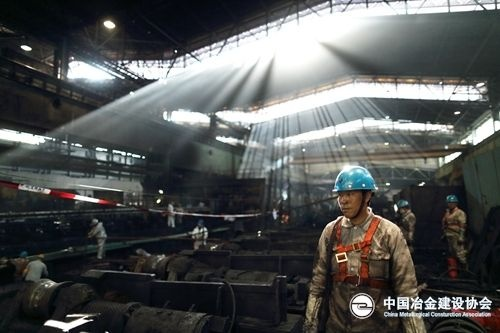blue: (332, 164, 378, 222), (445, 192, 459, 210), (397, 198, 410, 214)
